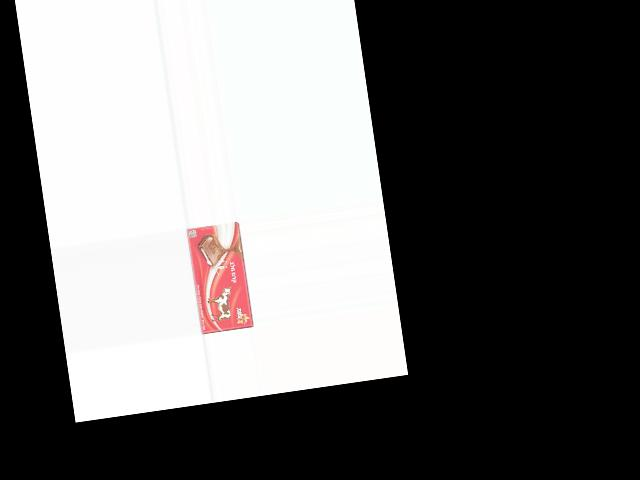chocolate: (185, 221, 254, 336)
